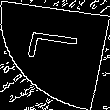L_E: (23, 35, 87, 75)
